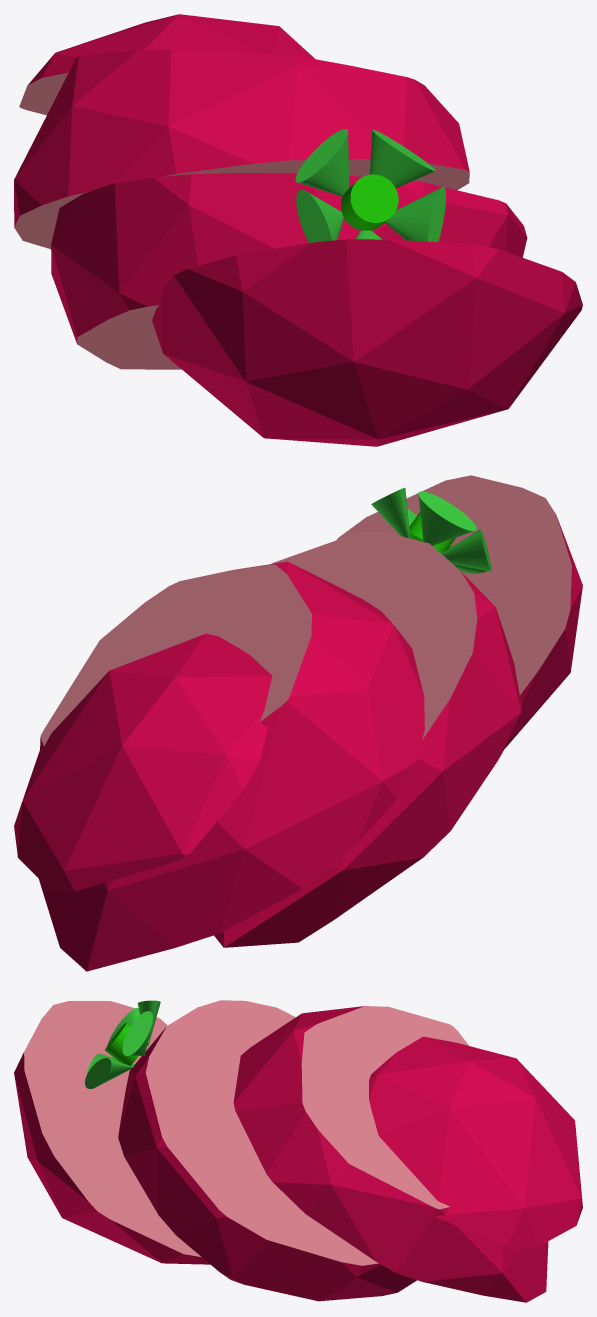
File: fresaCortada 1.fbx
The picture shows the model from 3 angles, top to bottom: view 1: azimuth 30°, elevation 25°; view 2: azimuth 150°, elevation 25°; view 3: azimuth 270°, elevation 25°; orthographic projection. The views are drawn at different scales.
Parts seen in each view (by area): view 1: Icosphere.002, Icosphere, Icosphere.003, Icosphere.004, Icosphere.001, Cone.001, Cone.003, Cone.004, Cone.002; view 2: Icosphere, Icosphere.004, Icosphere.003, Icosphere.002, Cone.001, Cone.002, Cone.004; view 3: Icosphere, Icosphere.003, Icosphere.004, Icosphere.002, Cone.004, Cone.003, Icosphere.001.
Boxes of the visible parts, x1=… form: Icosphere.002: x1=152, y1=239, x2=582, y2=446; Icosphere: x1=14, y1=49, x2=469, y2=249; Icosphere.003: x1=51, y1=173, x2=527, y2=369; Icosphere.004: x1=19, y1=14, x2=315, y2=115; Icosphere.001: x1=341, y1=174, x2=398, y2=230; Cone.001: x1=295, y1=129, x2=349, y2=196; Cone.003: x1=385, y1=186, x2=445, y2=241; Cone.004: x1=370, y1=129, x2=435, y2=188; Cone.002: x1=296, y1=189, x2=343, y2=242; Icosphere: x1=39, y1=561, x2=424, y2=971; Icosphere.004: x1=14, y1=633, x2=272, y2=891; Icosphere.003: x1=214, y1=532, x2=521, y2=947; Icosphere.002: x1=336, y1=475, x2=582, y2=748; Cone.001: x1=418, y1=491, x2=476, y2=545; Cone.002: x1=441, y1=529, x2=491, y2=571; Cone.004: x1=371, y1=487, x2=410, y2=538; Icosphere: x1=233, y1=1006, x2=548, y2=1302; Icosphere.003: x1=118, y1=1000, x2=416, y2=1301; Icosphere.004: x1=369, y1=1036, x2=582, y2=1246; Icosphere.002: x1=14, y1=1001, x2=210, y2=1264; Cone.004: x1=122, y1=1011, x2=152, y2=1055; Cone.003: x1=85, y1=1058, x2=133, y2=1088; Icosphere.001: x1=105, y1=1022, x2=149, y2=1065.
Bounding box in the file's own units: 48.81 × 43.09 × 82.39.
